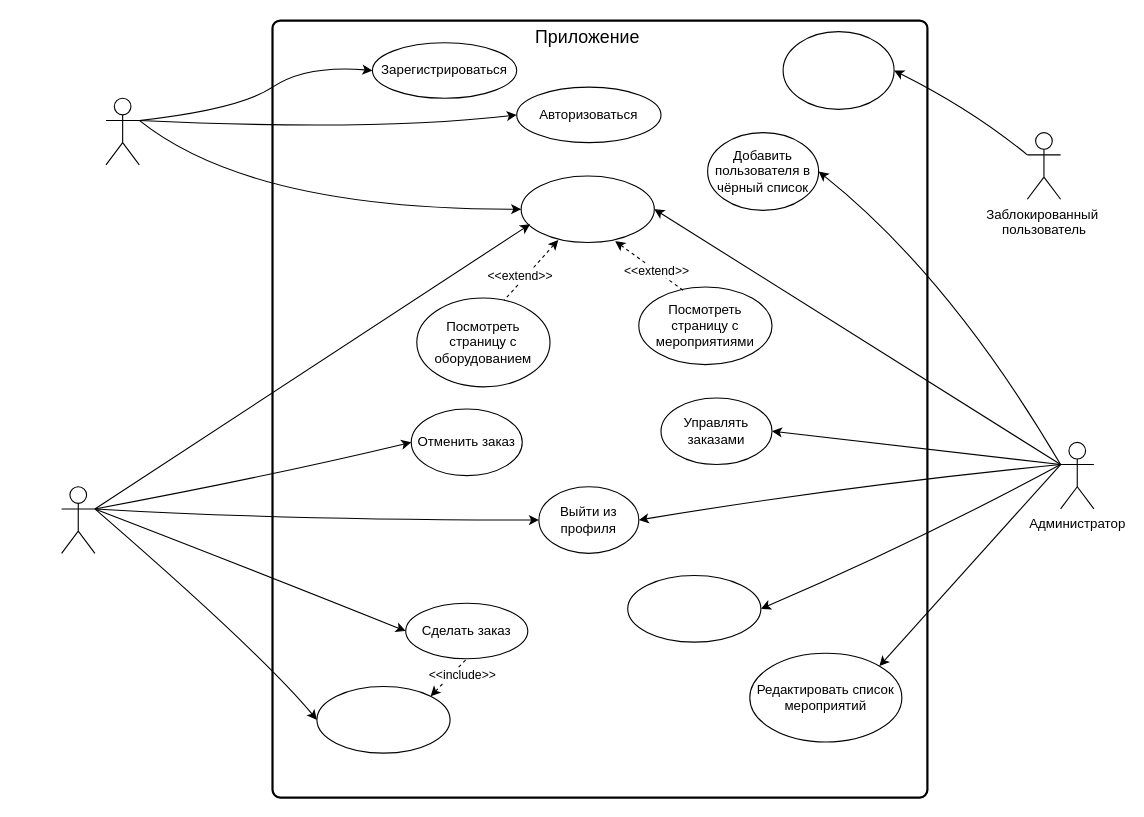
Image size: 1144x817. Some labels were removed from this diagram. The shapes that lost their labels are listed below. From the top down, each one's box as (x1, y1, x2, y2) in pixels, then its label:
(782, 31, 894, 109): Посмотреть сообщение о блокировке
(105, 97, 139, 165): Неавторизированный пользователь
(520, 175, 654, 243): Посмотреть страницу сайта
(60, 486, 95, 553): Авторизированный пользователь
(627, 574, 761, 642): Редактировать список оборудования
(316, 685, 450, 753): Оплатить заказ
